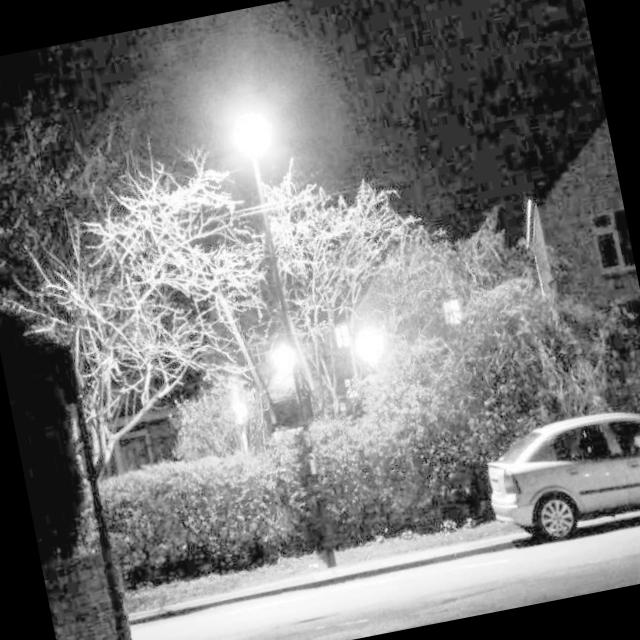Car: (470, 373, 640, 582)
